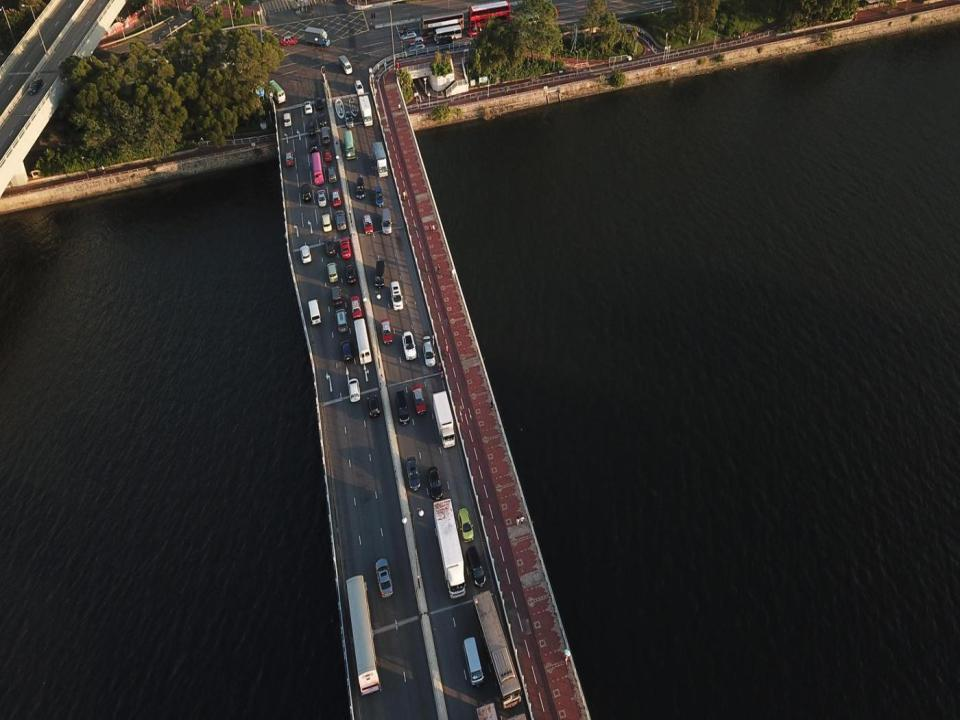bus: (346, 575, 380, 697), (467, 0, 510, 37), (419, 10, 464, 38), (354, 318, 372, 365), (267, 80, 286, 104), (434, 26, 462, 42), (311, 152, 324, 184)
car: (375, 558, 392, 600), (458, 508, 475, 543), (405, 456, 421, 492), (427, 466, 443, 499), (411, 384, 426, 416), (402, 331, 418, 361), (422, 336, 436, 366), (390, 280, 404, 310), (380, 319, 394, 346), (347, 378, 361, 403), (334, 208, 347, 231), (349, 297, 361, 321), (362, 213, 374, 236), (367, 395, 380, 416), (27, 78, 42, 96), (339, 238, 352, 258), (346, 264, 357, 286), (341, 340, 352, 362), (280, 34, 298, 47), (331, 188, 342, 208), (355, 177, 365, 199), (300, 246, 312, 264), (324, 237, 336, 255), (316, 189, 327, 208), (326, 165, 337, 182), (344, 110, 354, 128), (408, 36, 426, 46), (317, 113, 328, 129), (401, 30, 417, 41), (302, 184, 311, 202), (409, 43, 426, 52), (354, 80, 364, 95), (285, 150, 294, 166), (307, 122, 317, 136), (323, 148, 332, 162), (315, 96, 323, 109), (310, 140, 318, 153), (304, 102, 312, 114)
truck: (472, 590, 522, 709), (433, 499, 466, 598), (433, 390, 456, 449), (372, 142, 388, 178), (304, 26, 330, 48), (359, 96, 373, 127), (343, 131, 356, 160), (339, 54, 352, 75)
van: (463, 637, 484, 687), (466, 546, 486, 588), (396, 390, 410, 425), (307, 299, 322, 326), (335, 308, 348, 332), (381, 208, 392, 236), (375, 259, 385, 288), (326, 262, 338, 283), (321, 213, 332, 233), (331, 285, 342, 305), (374, 186, 384, 206), (437, 36, 453, 48), (321, 126, 330, 144), (284, 112, 292, 127)
